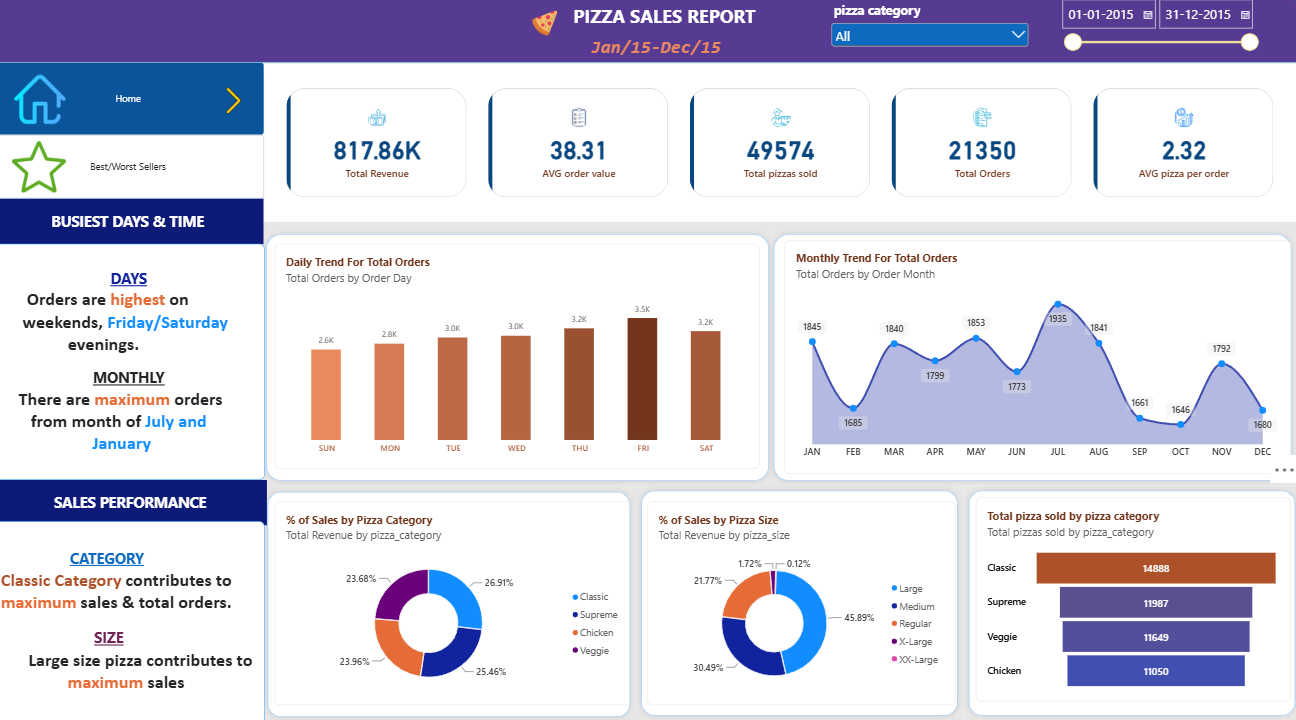

Layout of this report page (visuals, bound fields, positions):
{"tool":"powerbi","page":{"name":"Home","canvas":[1920,1080],"ordinal":0},"visuals":[{"type":"cardVisual","fields":{"Data":["pizza_sales_CSV_file.Total Revenue","pizza_sales_CSV_file.AVG order value","pizza_sales_CSV_file.Total pizzas sold","pizza_sales_CSV_file.Total Orders","pizza_sales_CSV_file.AVG pizza per order"]},"box":[396.2,100.9,1524.3,232.9],"z":0},{"type":"shape","box":[0,0,1920.5,99],"z":1000},{"type":"textbox","box":[790.2,12.1,392.5,45.9],"z":2000},{"type":"textbox","box":[836.1,60.9,275.1,40.4],"z":3000},{"type":"image","box":[750.2,22,121.1,38.5],"z":4000},{"type":"shape","box":[394.4,343,753.9,377.9],"z":5000},{"type":"columnChart","title":"Daily Trend For Total Orders","fields":{"Category":["pizza_sales_CSV_file.Order Day"],"Y":["pizza_sales_CSV_file.Total Orders"]},"box":[414.5,365,711.7,330.2],"z":6000},{"type":"shape","box":[1139.1,343,775.9,377.9],"z":7000},{"type":"areaChart","title":"Monthly Trend For Total Orders","fields":{"Category":["pizza_sales_CSV_file.Order Month"],"Y":["pizza_sales_CSV_file.Total Orders"]},"box":[1162.9,359.5,742.9,343],"z":8000},{"type":"shape","box":[396.2,720.9,548.4,346.7],"z":9000},{"type":"shape","box":[944.6,719,480.6,346.7],"z":10000},{"type":"shape","box":[1425.2,719,495.2,346.7],"z":11000},{"type":"donutChart","title":"% of Sales by Pizza Category","fields":{"Category":["pizza_sales_CSV_file.pizza_category"],"Y":["pizza_sales_CSV_file.Total Revenue"]},"box":[414.5,742.9,530.1,299],"z":12000},{"type":"donutChart","title":"% of Sales by Pizza Size","fields":{"Category":["pizza_sales_CSV_file.pizza_size"],"Y":["pizza_sales_CSV_file.Total Revenue"]},"box":[961.1,742.9,453.1,299],"z":13000},{"type":"funnel","title":"Total pizza sold by pizza category","fields":{"Category":["pizza_sales_CSV_file.pizza_category"],"Y":["pizza_sales_CSV_file.Total pizzas sold"]},"box":[1443.6,737.4,462.2,299],"z":14000},{"type":"shape","box":[0,99,403.5,981.3],"z":15000},{"type":"textbox","box":[0,299,398,66],"z":16000},{"type":"textbox","box":[1.8,365,398,346.7],"z":17000},{"type":"textbox","box":[1.8,711.7,401.7,66],"z":18000},{"type":"textbox","box":[0,772.2,399.9,308.2],"z":19000},{"type":"slicer","fields":{"Values":["pizza_sales_CSV_file.pizza_category"]},"box":[1227.1,9.2,299,80.7],"z":20000},{"type":"slicer","fields":{"Values":["pizza_sales_CSV_file.order_date"]},"box":[1562.8,1.8,299,99],"z":21000},{"type":"pageNavigator","box":[0,99,399.9,106.4],"z":22000},{"type":"pageNavigator","box":[0,205.4,399.9,93.5],"z":23000},{"type":"image","box":[333.3,135,41.7,38.3],"z":24000},{"type":"image","box":[31.2,115.6,78.9,75.2],"z":25000},{"type":"image","box":[29.3,205.4,78.9,93.5],"z":26000}]}

Visuals, with their boxes on the page's 1920x1080 design canvas (x1, y1, x2, y2). These are canvas units, not pixel positions in the 1296x720 screenshot, which may show the page scaled, cropped or inside an application window:
cardVisual - pizza_sales_CSV_file.Total Revenue x pizza_sales_CSV_file.AVG order value: 396:101:1920:334
shape: 0:0:1920:99
textbox: 790:12:1183:58
textbox: 836:61:1111:101
image: 750:22:871:60
shape: 394:343:1148:721
"Daily Trend For Total Orders" columnChart: 414:365:1126:695
shape: 1139:343:1915:721
"Monthly Trend For Total Orders" areaChart: 1163:360:1906:702
shape: 396:721:945:1068
shape: 945:719:1425:1066
shape: 1425:719:1920:1066
"% of Sales by Pizza Category" donutChart: 414:743:945:1042
"% of Sales by Pizza Size" donutChart: 961:743:1414:1042
"Total pizza sold by pizza category" funnel: 1444:737:1906:1036
shape: 0:99:404:1080
textbox: 0:299:398:365
textbox: 2:365:400:712
textbox: 2:712:404:778
textbox: 0:772:400:1080
slicer - pizza_sales_CSV_file.pizza_category: 1227:9:1526:90
slicer - pizza_sales_CSV_file.order_date: 1563:2:1862:101
pageNavigator: 0:99:400:205
pageNavigator: 0:205:400:299
image: 333:135:375:173
image: 31:116:110:191
image: 29:205:108:299
